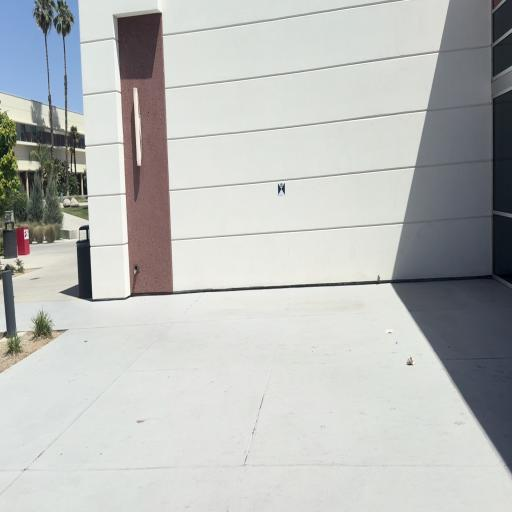target0: (278, 182, 285, 196)
